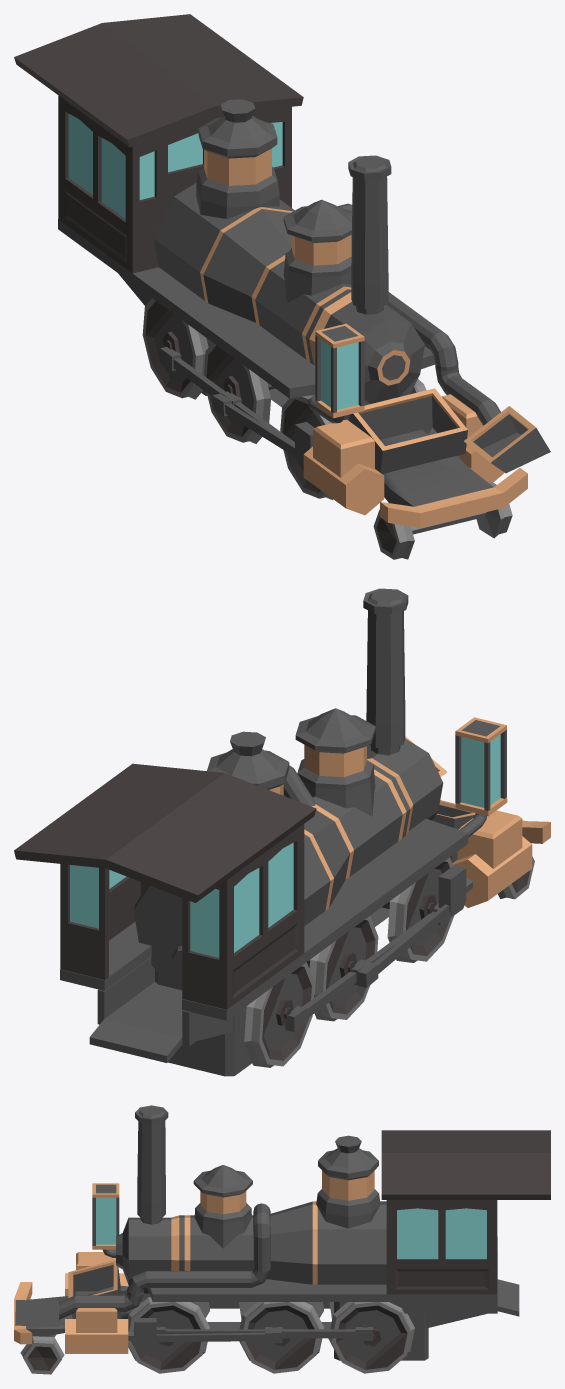
File: vehicle.fbx
The picture shows the model from 3 angles, top to bottom: view 1: azimuth 30°, elevation 25°; view 2: azimuth 150°, elevation 25°; view 3: azimuth 270°, elevation 25°; orthographic projection. The views are drawn at different scales.
Visible parts, largest first — view 1: locomotive-western-base, collector-box, fuel-indicator, locomotive-wheel4, locomotive-wheel3, funnel-pipe, funnel, locomotive-wheel1, locomotive-wheel2, con-rod_L, drive-rod_BL; view 2: locomotive-western-base, fuel-indicator, locomotive-wheel4, locomotive-wheel3, locomotive-wheel2, con-rod_L, drive-rod_BL, drive-rod_FL, collector-box, funnel-pipe; view 3: locomotive-western-base, funnel-pipe, locomotive-wheel4, locomotive-wheel3, locomotive-wheel2, fuel-indicator, collector-box, con-rod_R, locomotive-wheel1, drive-rod_BR, funnel, drive-rod_FR.
Boxes of the visible parts, box(x1,y1,x2,y2) form: locomotive-western-base: box(14, 14, 527, 528); collector-box: box(349, 388, 467, 474); fuel-indicator: box(315, 323, 364, 418); locomotive-wheel4: box(142, 298, 208, 399); locomotive-wheel3: box(203, 343, 275, 443); funnel-pipe: box(290, 203, 500, 425); funnel: box(464, 406, 550, 473); locomotive-wheel1: box(373, 482, 512, 559); locomotive-wheel2: box(280, 379, 426, 499); con-rod_L: box(160, 346, 295, 457); drive-rod_BL: box(212, 393, 295, 456); locomotive-western-base: box(14, 588, 550, 1076); fuel-indicator: box(455, 717, 507, 816); locomotive-wheel4: box(244, 962, 314, 1067); locomotive-wheel3: box(307, 916, 378, 1021); locomotive-wheel2: box(382, 857, 453, 962); con-rod_L: box(285, 903, 452, 1031); drive-rod_BL: box(357, 904, 450, 987); drive-rod_FL: box(438, 865, 472, 915); collector-box: box(432, 800, 475, 862); funnel-pipe: box(283, 765, 315, 806); locomotive-western-base: box(14, 1105, 550, 1360); funnel-pipe: box(59, 1203, 270, 1319); locomotive-wheel4: box(328, 1302, 414, 1373); locomotive-wheel3: box(239, 1302, 324, 1373); locomotive-wheel2: box(127, 1297, 210, 1373); fuel-indicator: box(92, 1183, 119, 1249); collector-box: box(68, 1259, 120, 1318); con-rod_R: box(156, 1327, 373, 1340); locomotive-wheel1: box(20, 1334, 64, 1374); drive-rod_BR: box(156, 1330, 282, 1343); funnel: box(15, 1300, 59, 1326); drive-rod_FR: box(128, 1318, 156, 1349).
Bounding box in the file's own units: 277 × 487 × 961.
